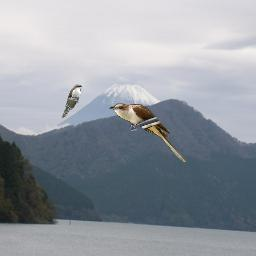Cuckoo: (108, 103, 187, 164), (61, 84, 82, 118)
